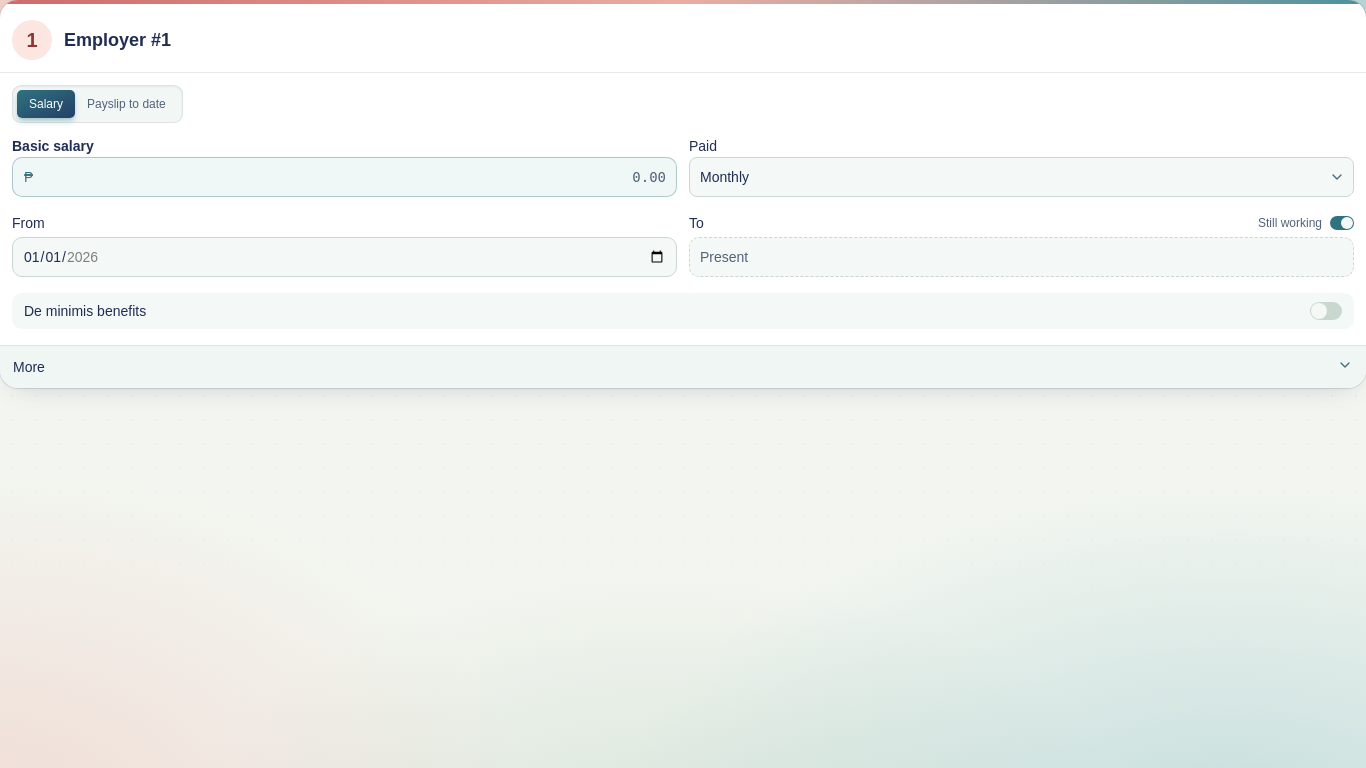
Scenario: EmployerSection: the More tray in salary mode › shows each field its own saved value
The image size is (1366, 768).
Click the button "More" at (29, 367), box [12,346,1354,388]
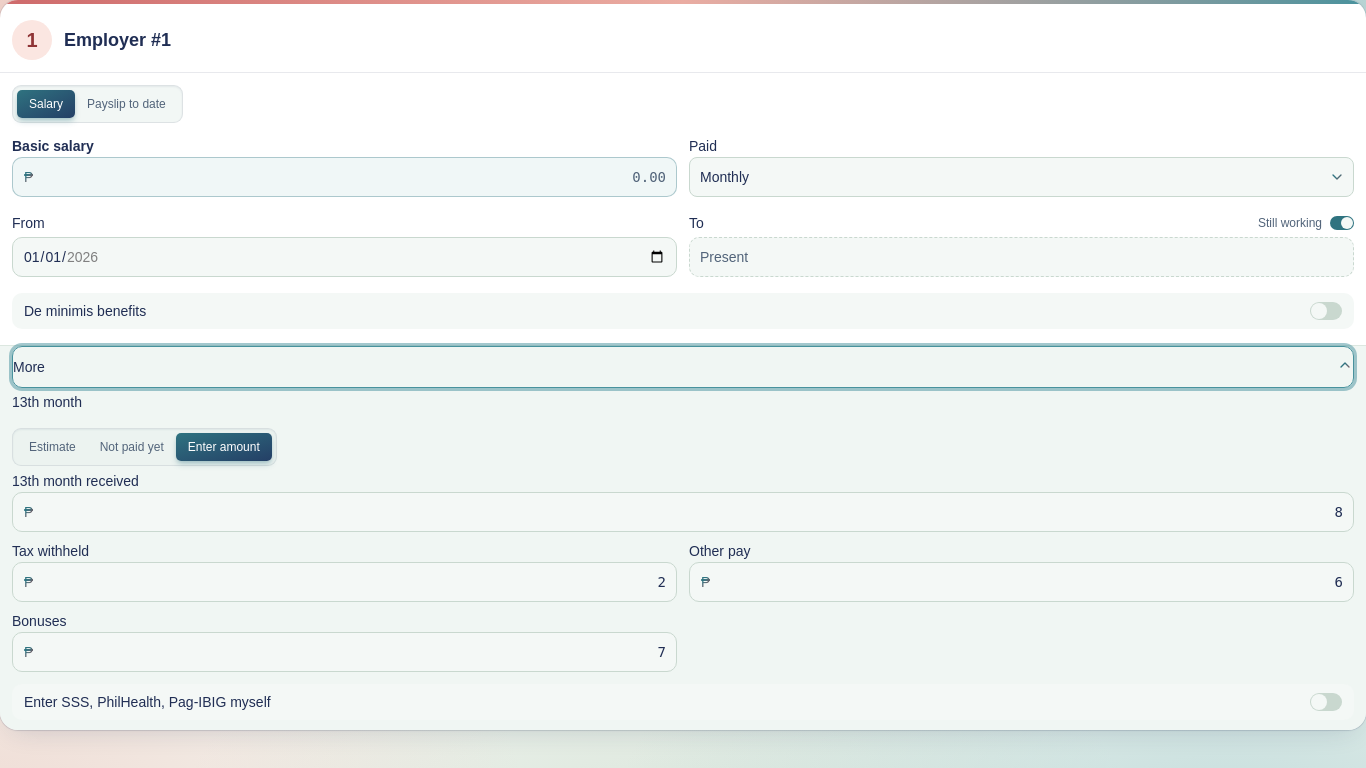
Result: the field labelled "13th month received" holds "8" at [12,492,1354,532]
